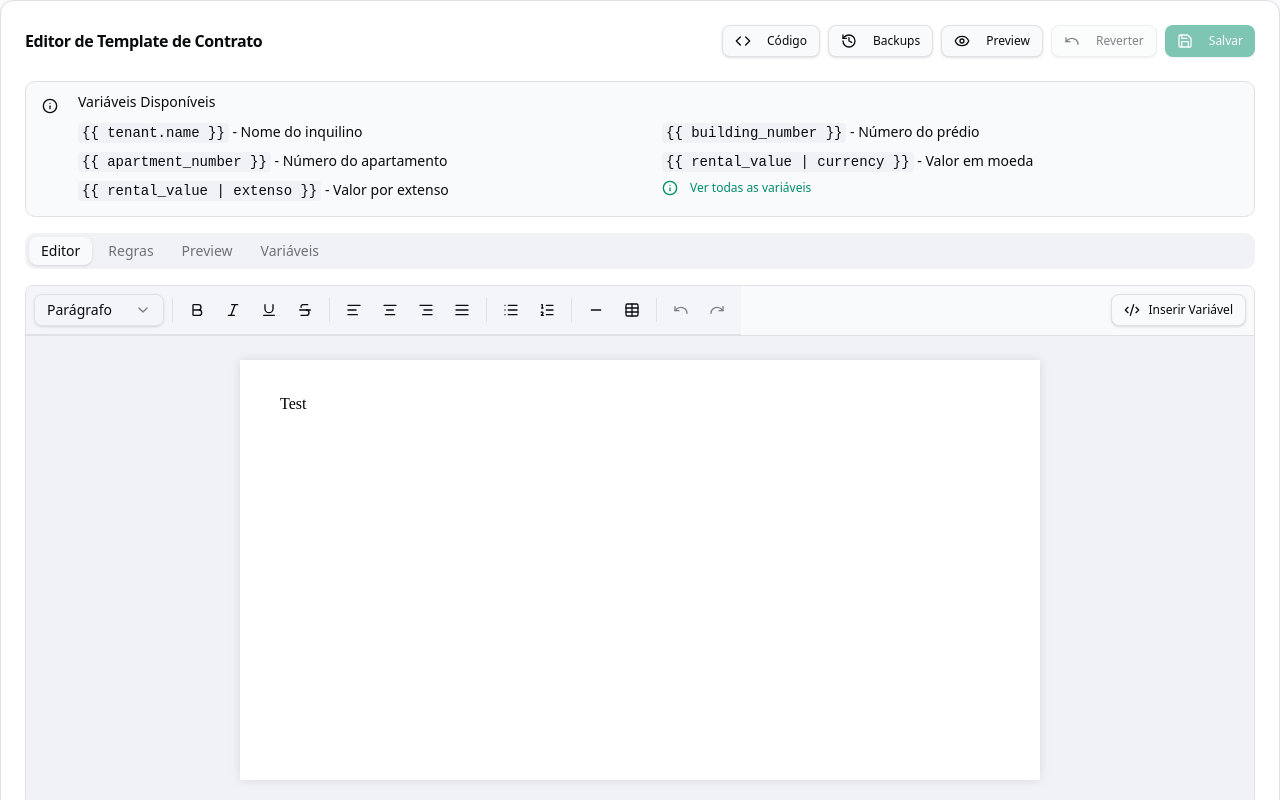
it: ContractTemplatePage › Backup Modal › should list template versions by id in the backups modal
The image size is (1280, 800).
Click the button "Backups" at (881, 41), box [828,25,933,57]
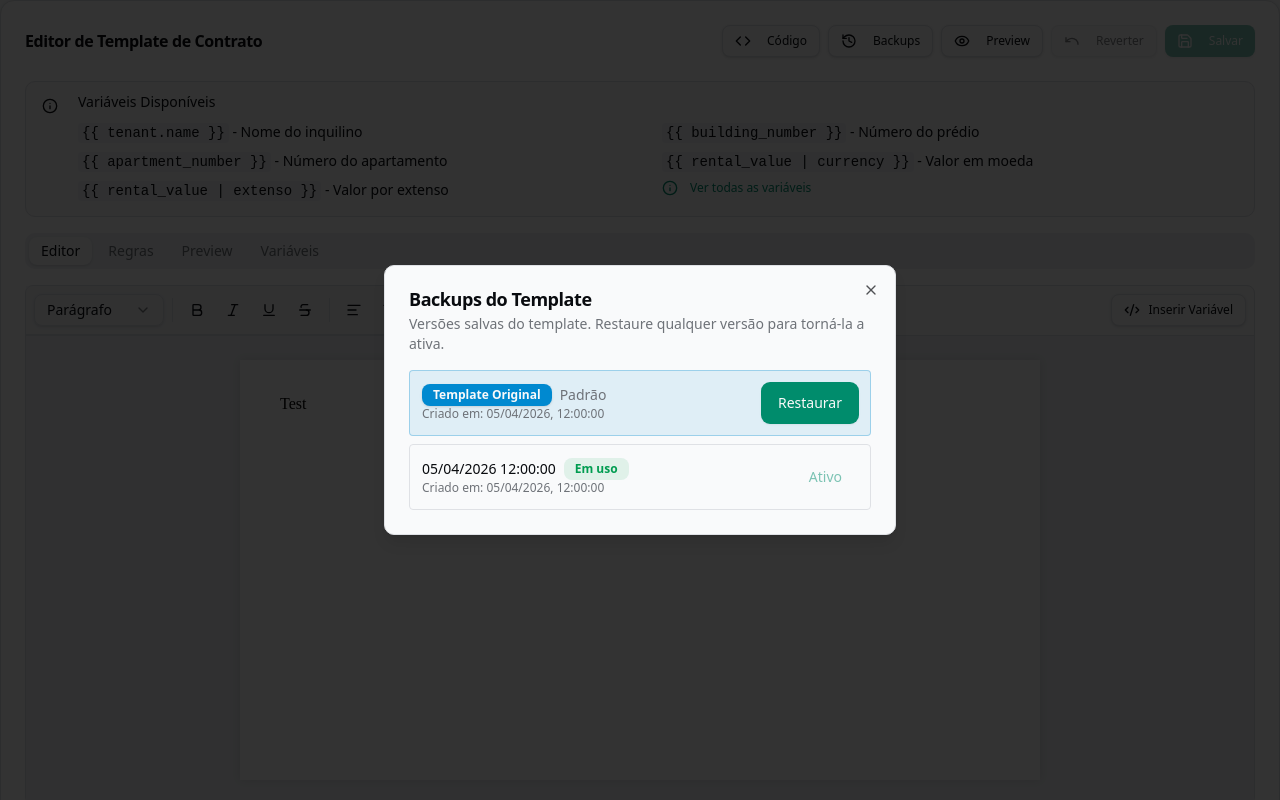
Expected: the text "Padrão" is shown, [560,385,606,405]
Expected: the text "05/04/2026 12:00:00" is shown, [422,459,556,479]
Expected: the text "Em uso" is shown, [564,458,629,480]
